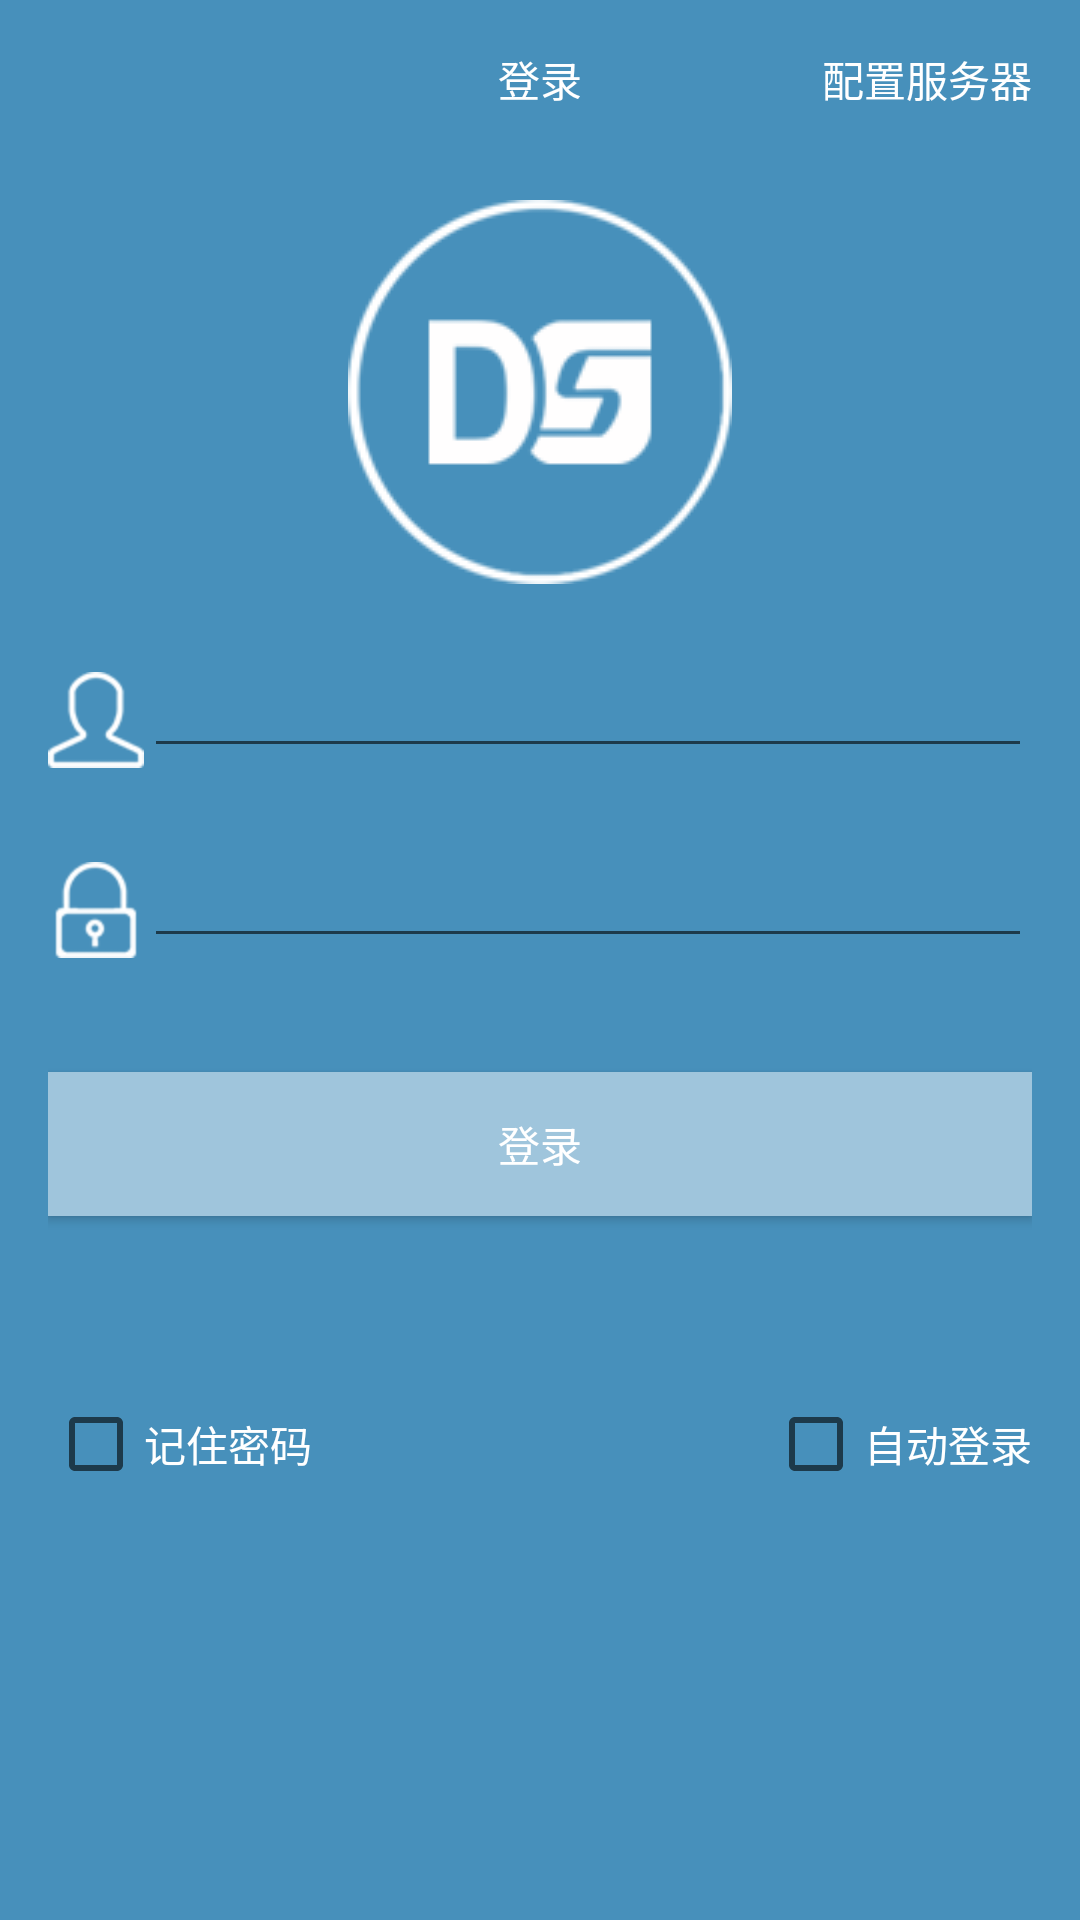

Icon bounding boxes for this 1080px x 1920px phone screenshot, format BBox(x1, y1, x2, y2):
lock: BBox(55, 862, 137, 958)
user: BBox(48, 672, 144, 768)
